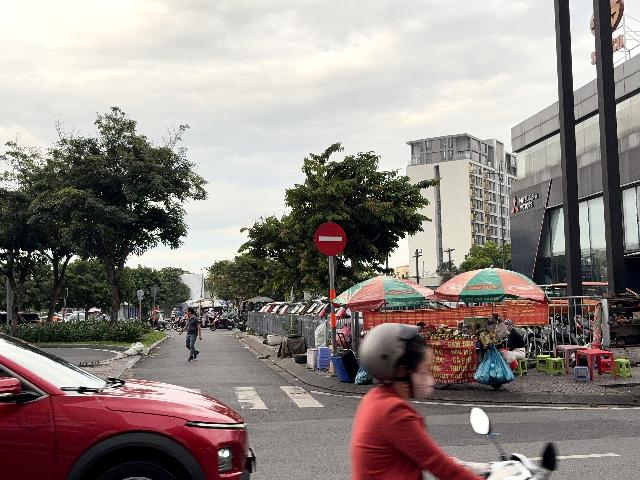cam-di-nguoc-chieu: (314, 223, 346, 256)
